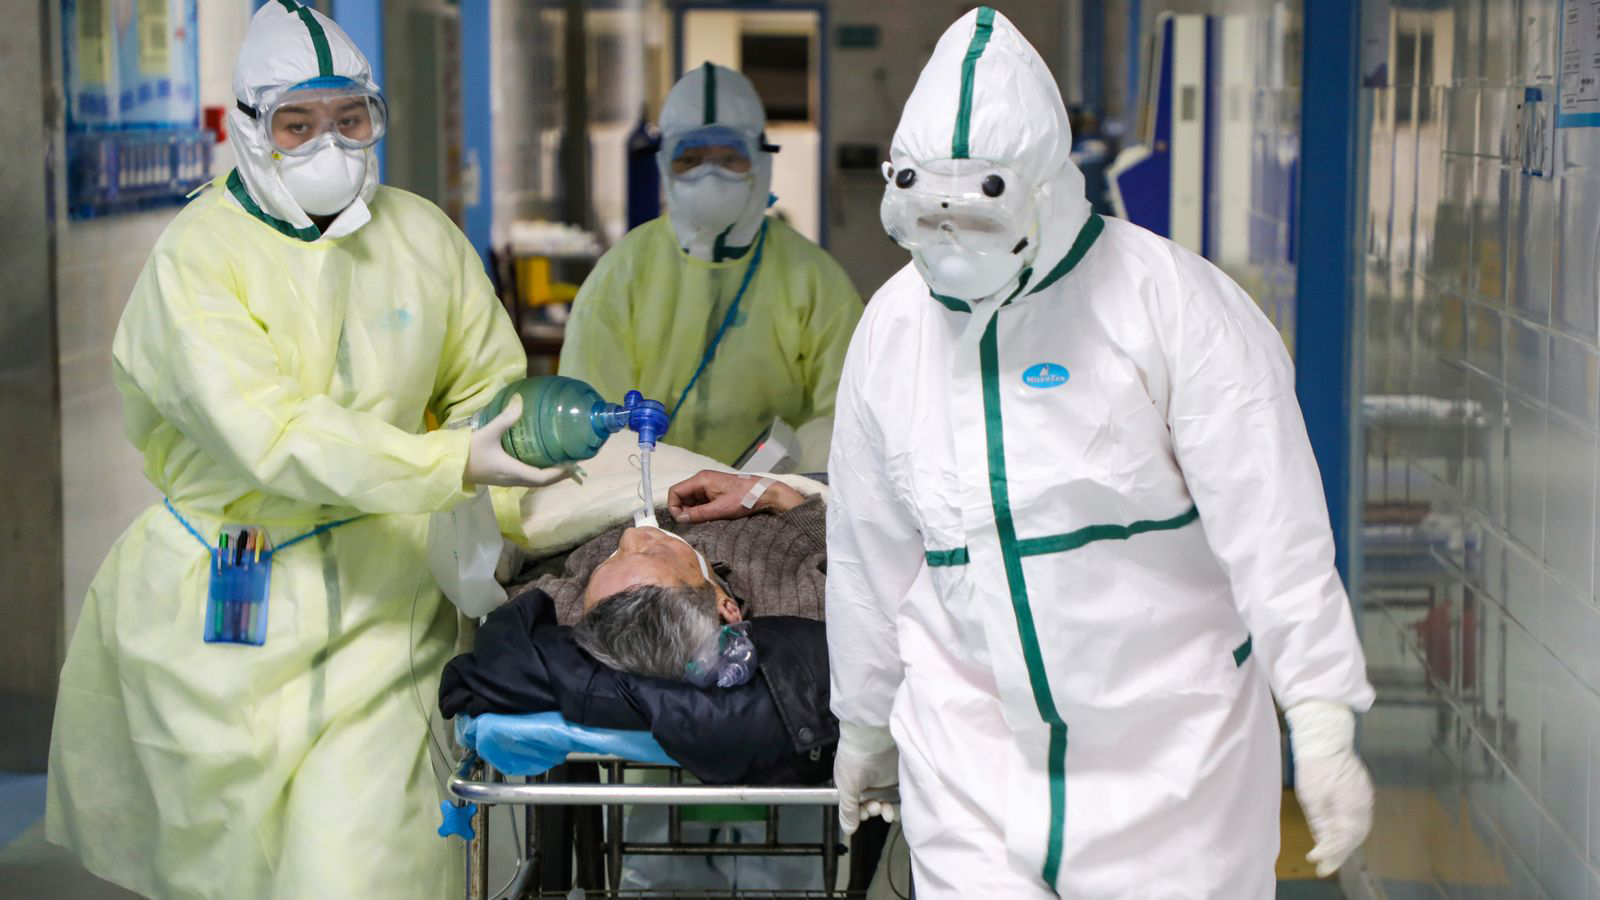Coverall: (826, 12, 1321, 900), (82, 5, 494, 900), (560, 55, 856, 433)
Gloves: (1284, 708, 1404, 886), (456, 408, 581, 495), (831, 720, 919, 843)
Goggles: (871, 148, 1044, 264), (247, 83, 403, 152), (660, 124, 762, 193)
with_mask: (898, 183, 1030, 308), (268, 110, 378, 223), (666, 150, 761, 244)
